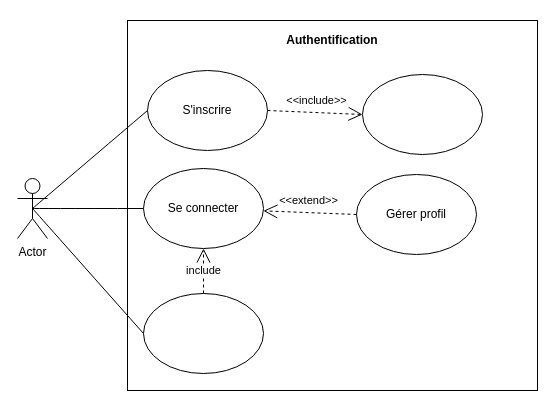
The diagram is 555 pixels wide and 408 high, and some of its shapes have lost their labels. The shapes that lost their labels are listed below. From the top down, each one's centre as x and y in pixels, then its label:
point 422,114: Valider email
point 203,333: Se déconnecter
